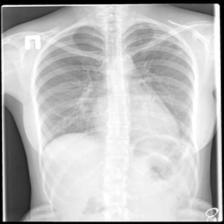tuberculosis: (32, 16, 203, 206)
